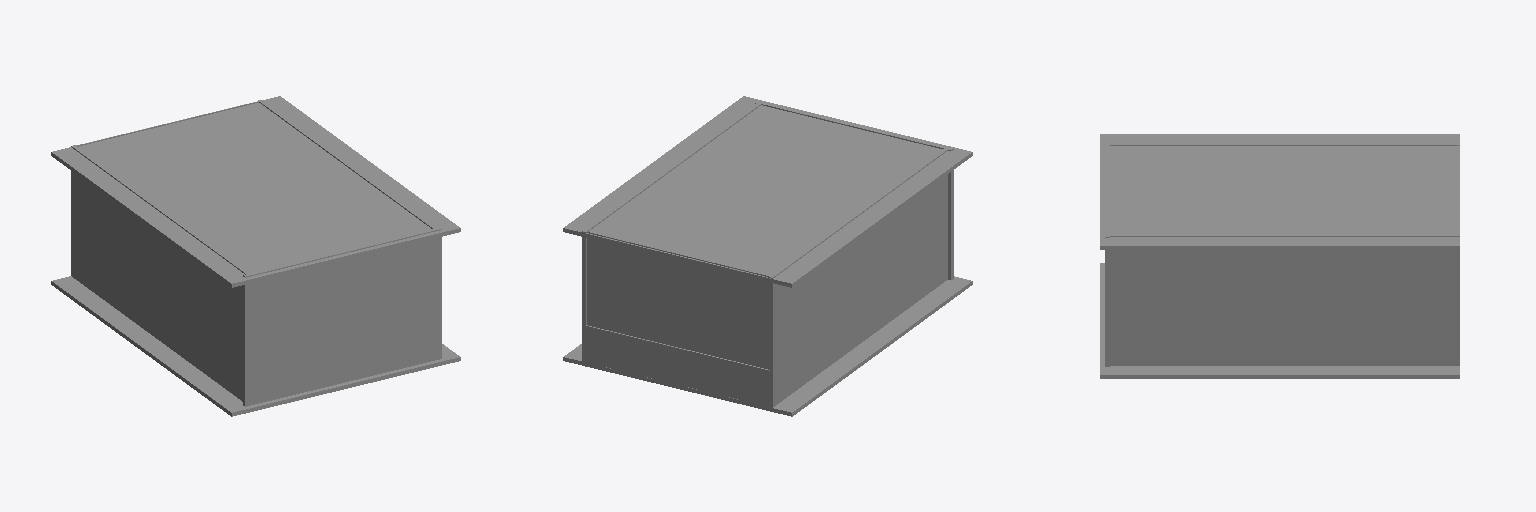
File: office4_layout.obj
3 views of the same model, side by side, from view 1: azimuth 30°, elevation 25°; view 2: azimuth 150°, elevation 25°; view 3: azimuth 270°, elevation 25° (orthographic).
Visible parts, largest first — view 1: wall.025, ceiling.013, floor.007; view 2: ceiling.013, wall.025, window.005, wall.026, floor.007; view 3: wall.025, ceiling.013, floor.007.
Boxes of the visible parts, x1,y1,x2,y2 form: wall.025: [71, 100, 441, 406]; ceiling.013: [51, 96, 460, 287]; floor.007: [51, 276, 460, 416]; ceiling.013: [563, 96, 972, 287]; wall.025: [582, 101, 953, 407]; window.005: [587, 232, 768, 368]; wall.026: [582, 325, 771, 407]; floor.007: [563, 276, 972, 416]; wall.025: [1105, 141, 1459, 366]; ceiling.013: [1100, 134, 1459, 249]; floor.007: [1100, 263, 1459, 378].
Bounding box in the file's own units: 7.62 × 4.27 × 10.39.